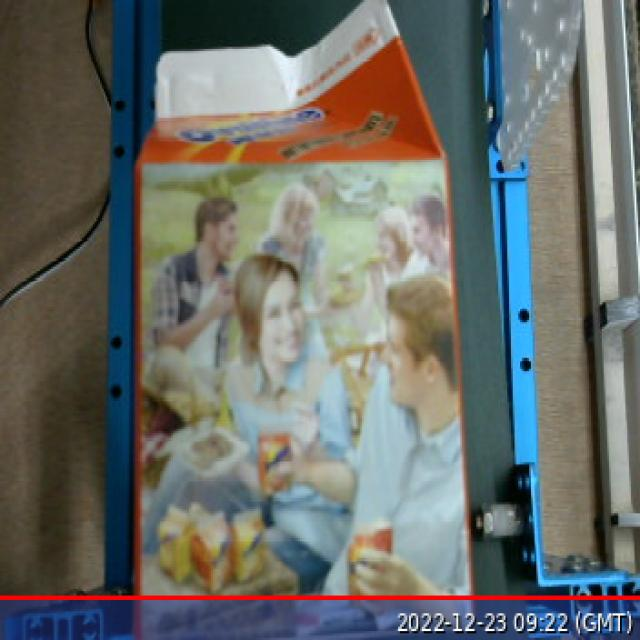non_white_jug: (128, 0, 480, 640)
